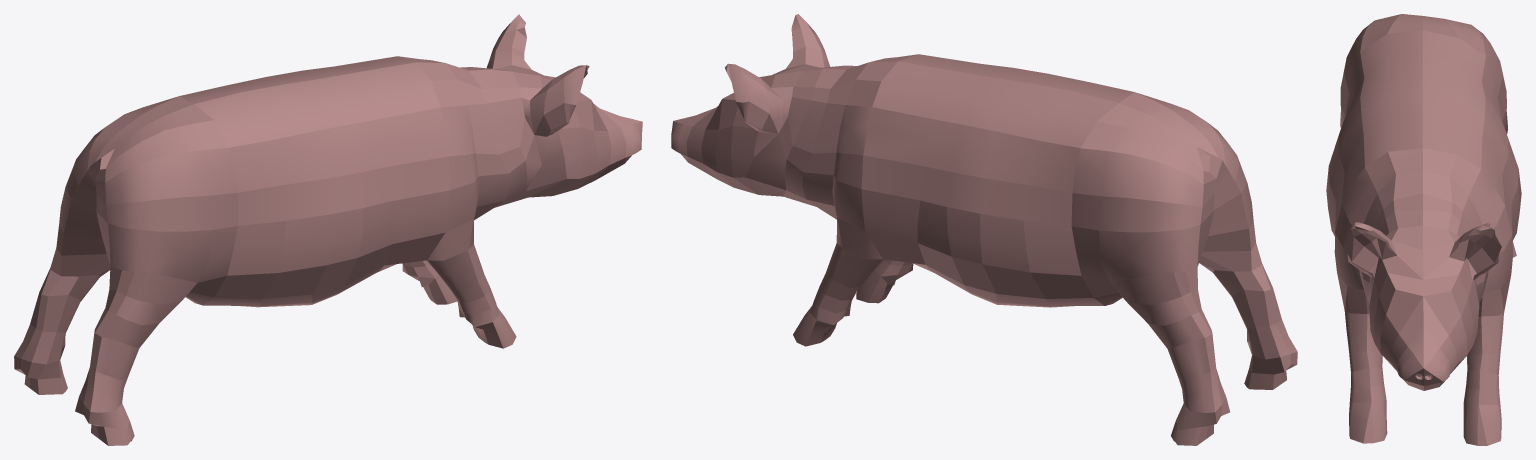
The model's file is lowpoly_pig.fbx.
3 renders of one model, left to right at view 1: azimuth 30°, elevation 25°; view 2: azimuth 150°, elevation 25°; view 3: azimuth 270°, elevation 25°, orthographic. The views are drawn at different scales.
Visible parts, largest first — view 1: polySurface4; view 2: polySurface4; view 3: polySurface4.
Part boxes in pixels (<box>): polySurface4: <box>14,14,642,445</box>; polySurface4: <box>671,14,1297,445</box>; polySurface4: <box>1326,14,1521,445</box>.
Size of the model in its own units: 195 by 90.66 by 57.02.
